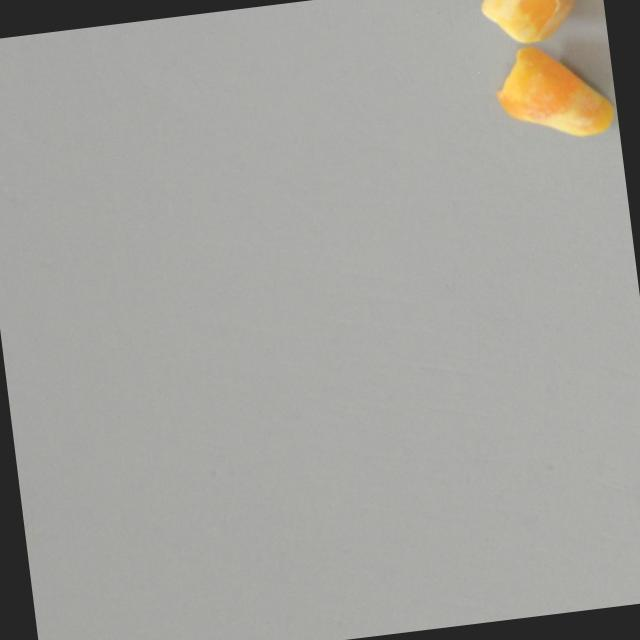pelicula: (491, 37, 619, 147), (478, 0, 581, 50)
